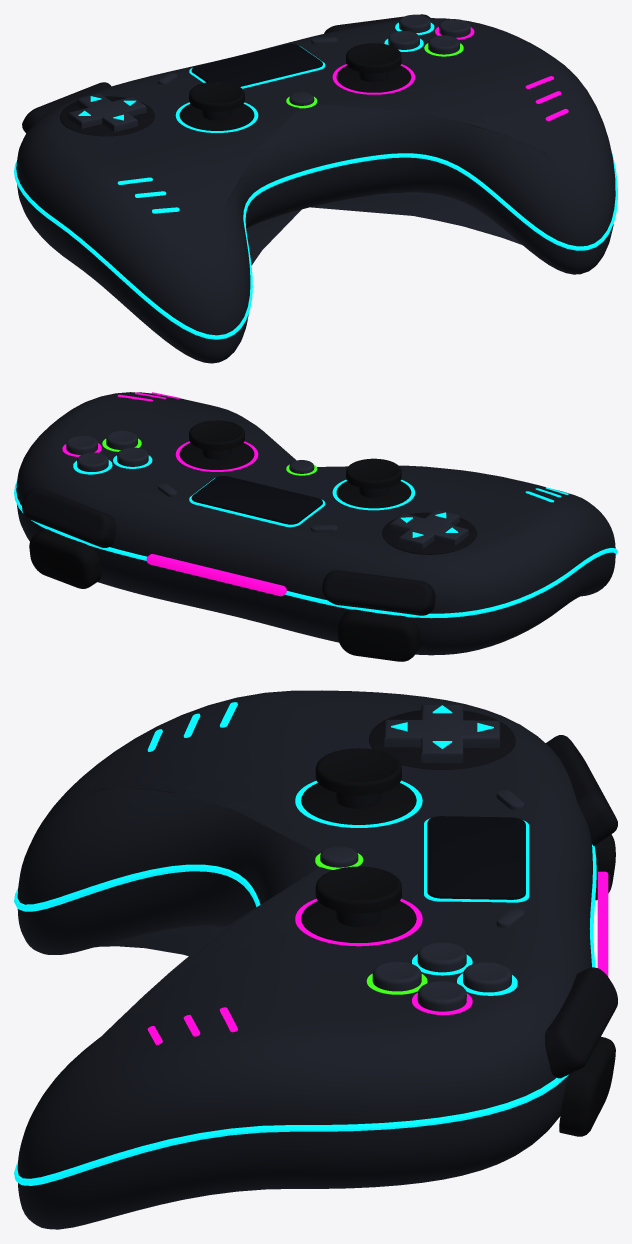
Rendered from gamepad.glb.
3 views of the same model, one above another, from view 1: azimuth 30°, elevation 25°; view 2: azimuth 150°, elevation 25°; view 3: azimuth 270°, elevation 25° (orthographic). The views are drawn at different scales.
Parts seen in each view (by area): view 1: Body, Seam, Panel_Glass, Dpad_Cross, Stick_R_Cap, Stick_L_Cap, Stick_R_Well, Stick_L_Well, Dpad_Plate, Bumper_L, Btn_A, Btn_X (+2 smaller); view 2: Body, Bumper_L, Panel_Glass, Trigger_L, Bumper_R, Trigger_R, Seam, Dpad_Cross, LightBar, Stick_L_Cap, Stick_R_Cap, Dpad_Plate (+9 smaller); view 3: Body, Panel_Glass, Seam, Bumper_R, Dpad_Cross, Trigger_R, Stick_R_Cap, Stick_L_Cap, Stick_R_Well, Stick_L_Well, Bumper_L, Dpad_Plate (+9 smaller).
Part boxes in pixels (x1,y1,x2,y2): Body: [16, 18, 615, 363]; Seam: [14, 152, 617, 339]; Panel_Glass: [191, 43, 322, 86]; Dpad_Cross: [68, 93, 146, 132]; Stick_R_Cap: [346, 43, 401, 73]; Stick_L_Cap: [189, 81, 244, 111]; Stick_R_Well: [336, 65, 411, 92]; Stick_L_Well: [179, 104, 254, 130]; Dpad_Plate: [60, 96, 154, 136]; Bumper_L: [22, 82, 111, 133]; Btn_A: [428, 35, 459, 54]; Btn_X: [388, 31, 419, 49]; Body: [16, 392, 615, 655]; Bumper_L: [322, 570, 435, 615]; Panel_Glass: [191, 476, 322, 524]; Trigger_L: [337, 609, 420, 661]; Bumper_R: [22, 487, 116, 547]; Trigger_R: [29, 528, 101, 588]; Seam: [14, 480, 617, 618]; Dpad_Cross: [390, 509, 468, 549]; LightBar: [146, 554, 286, 596]; Stick_L_Cap: [346, 458, 401, 488]; Stick_R_Cap: [189, 420, 244, 450]; Dpad_Plate: [382, 512, 476, 554]; Body: [17, 690, 592, 1229]; Panel_Glass: [427, 816, 525, 899]; Seam: [14, 844, 596, 1185]; Bumper_R: [545, 967, 617, 1078]; Dpad_Cross: [384, 704, 500, 763]; Trigger_R: [559, 1037, 615, 1136]; Stick_R_Cap: [315, 866, 401, 913]; Stick_L_Cap: [315, 748, 401, 795]; Stick_R_Well: [301, 901, 416, 942]; Stick_L_Well: [301, 783, 416, 824]; Bumper_L: [546, 735, 617, 845]; Dpad_Plate: [369, 710, 515, 769].
Size of the model in its own units: 1.9 by 0.5911 by 1.23.
